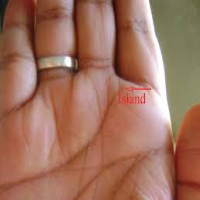ring: (35, 1, 81, 90)
